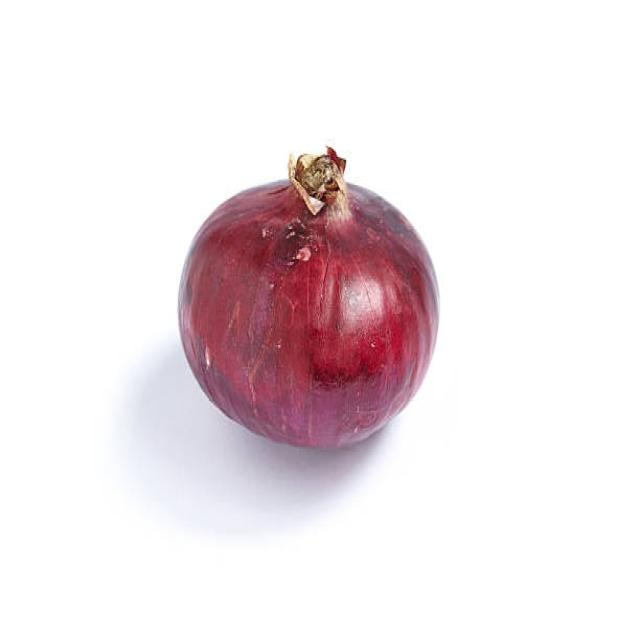onion: (171, 163, 443, 453)
